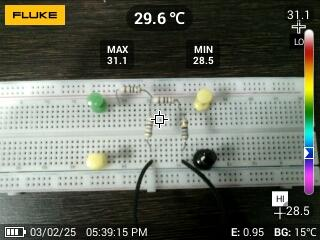resistor: (152, 94, 178, 107), (179, 116, 191, 142), (143, 113, 154, 141), (119, 84, 144, 95)
